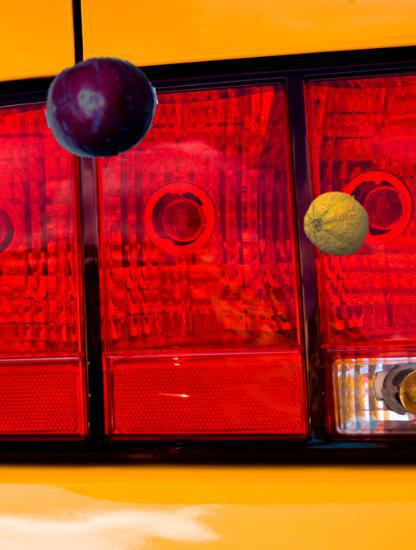Cantaloupe: (304, 190, 371, 257)
Plum: (45, 51, 158, 164)
